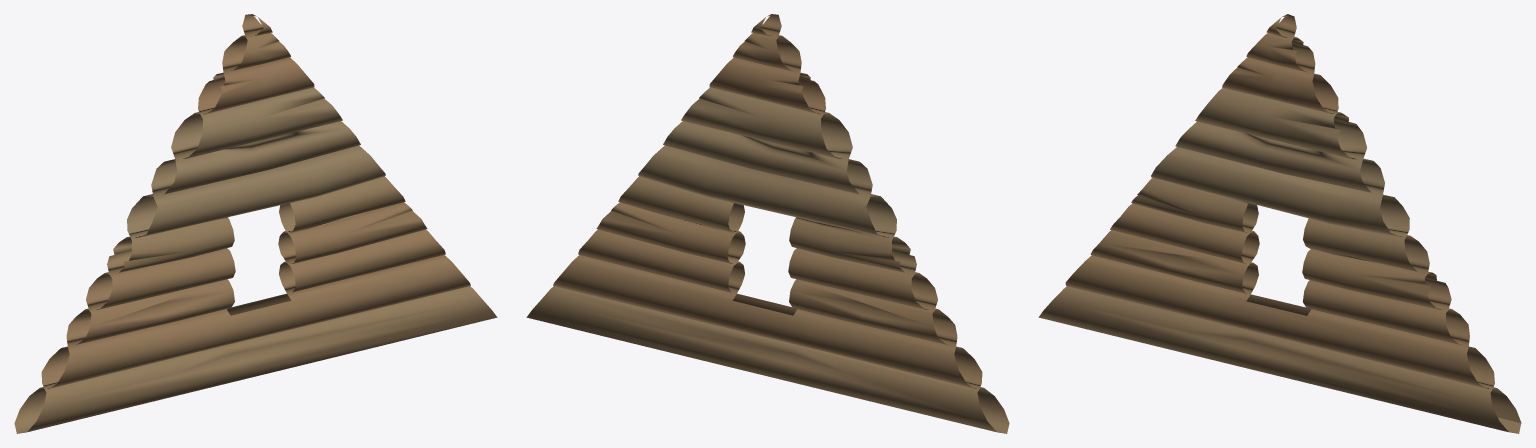
Rendered from rpgpp_ag_roof_end_01_6x5_wall_window_01d.fbx.
3 renders of one model, left to right at view 1: azimuth 30°, elevation 25°; view 2: azimuth 150°, elevation 25°; view 3: azimuth 330°, elevation 25°, orthographic.
Visible parts, largest first — view 1: rpgpp_ag_roof_end_01_6x5_wall_window_01d; view 2: rpgpp_ag_roof_end_01_6x5_wall_window_01d; view 3: rpgpp_ag_roof_end_01_6x5_wall_window_01d.
Part boxes in pixels (left/top/right/bottom): rpgpp_ag_roof_end_01_6x5_wall_window_01d: left=14, top=14, right=497, bottom=433; rpgpp_ag_roof_end_01_6x5_wall_window_01d: left=526, top=14, right=1009, bottom=433; rpgpp_ag_roof_end_01_6x5_wall_window_01d: left=1038, top=14, right=1521, bottom=433.
Bounding box in the file's own units: 6.35 × 4.56 × 0.5143.
